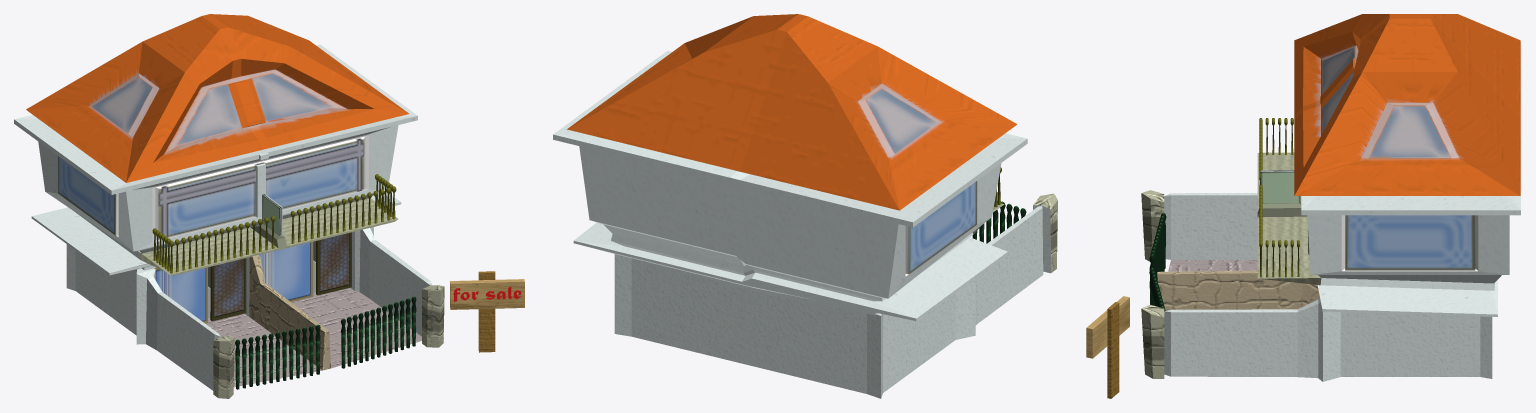
File: sdh.fbx
3 views of the same model, side by side, from view 1: azimuth 30°, elevation 25°; view 2: azimuth 150°, elevation 25°; view 3: azimuth 270°, elevation 25° (orthographic). The views are drawn at different scales.
Visible parts, largest first — view 1: Mesh; view 2: Mesh; view 3: Mesh.
Boxes of the visible parts, x1=… form: Mesh: x1=14, y1=14, x2=524, y2=398; Mesh: x1=553, y1=14, x2=1057, y2=398; Mesh: x1=1086, y1=14, x2=1521, y2=398.
Bounding box in the file's own units: 31.9 × 25.47 × 33.32.
1 material, 1 textured.
